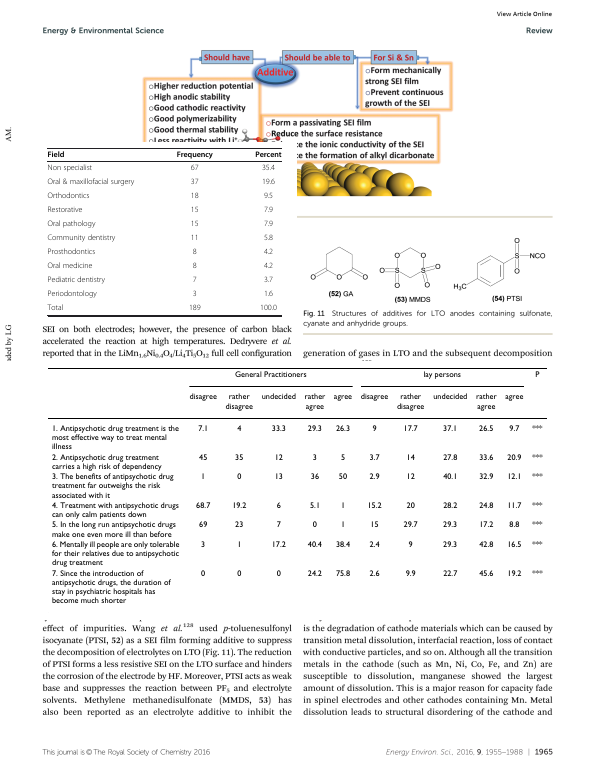borderless: (46, 366, 548, 614), (46, 147, 281, 315)
cell: (50, 569, 171, 606), (50, 540, 180, 568), (50, 424, 179, 452), (50, 472, 174, 501), (50, 520, 176, 540), (50, 501, 179, 520), (50, 453, 162, 472), (47, 178, 135, 188), (233, 370, 307, 380), (47, 234, 116, 244), (47, 276, 106, 286), (395, 393, 425, 412), (224, 393, 253, 412), (47, 290, 98, 300), (47, 220, 96, 230), (47, 248, 96, 258), (47, 164, 93, 174), (47, 262, 93, 272), (303, 393, 326, 412), (474, 393, 497, 412), (47, 192, 90, 202), (422, 370, 461, 380), (47, 206, 83, 216), (176, 151, 214, 160), (260, 393, 296, 402), (432, 393, 468, 402), (359, 393, 389, 402), (188, 393, 217, 402), (254, 151, 282, 160), (259, 304, 278, 314), (332, 393, 353, 402), (504, 393, 524, 402), (47, 304, 64, 314), (334, 540, 351, 550), (334, 569, 351, 579), (47, 151, 65, 160), (270, 424, 286, 434), (306, 424, 322, 434), (334, 424, 350, 434), (402, 424, 418, 434), (442, 424, 458, 434), (478, 424, 494, 434), (442, 453, 458, 463), (478, 453, 494, 463), (506, 453, 522, 463), (442, 472, 458, 482), (478, 472, 494, 482), (506, 472, 522, 482), (195, 501, 211, 511), (231, 501, 247, 511), (366, 501, 382, 511), (442, 501, 458, 511), (478, 501, 494, 511), (506, 501, 522, 511), (402, 520, 418, 530), (442, 520, 458, 530), (478, 520, 494, 530), (270, 540, 286, 550), (306, 540, 322, 550), (442, 540, 458, 550), (478, 540, 494, 550), (506, 540, 522, 550), (306, 569, 322, 579), (442, 569, 458, 579), (478, 569, 494, 579), (506, 569, 522, 579), (261, 164, 276, 174), (261, 178, 276, 188), (188, 304, 201, 314), (197, 424, 209, 434), (508, 424, 520, 434), (531, 424, 543, 434), (368, 453, 380, 463), (531, 453, 543, 463), (368, 472, 380, 482), (531, 472, 543, 482), (308, 501, 320, 511), (531, 501, 543, 511), (508, 520, 520, 530), (531, 520, 543, 530), (368, 540, 380, 550), (531, 540, 543, 550), (368, 569, 380, 579), (404, 569, 416, 579), (531, 569, 543, 579), (263, 192, 274, 202), (263, 206, 274, 216), (263, 220, 274, 230), (263, 234, 274, 244), (263, 248, 274, 258), (263, 262, 274, 272), (263, 276, 274, 286), (263, 290, 274, 300), (309, 472, 320, 482), (337, 472, 348, 482), (198, 453, 208, 463), (234, 453, 244, 463), (273, 453, 283, 463), (405, 453, 415, 463), (273, 472, 283, 482), (405, 472, 415, 482), (405, 501, 415, 511), (198, 520, 208, 530), (234, 520, 244, 530), (369, 520, 379, 530), (190, 164, 199, 174), (190, 178, 199, 188), (190, 192, 199, 202), (190, 206, 199, 216), (190, 220, 199, 230), (190, 234, 199, 244), (339, 453, 346, 463), (339, 501, 346, 511), (339, 520, 346, 530), (192, 248, 198, 258), (192, 262, 198, 272), (192, 276, 198, 286), (192, 290, 198, 300), (534, 370, 540, 380), (236, 424, 242, 434), (371, 424, 377, 434), (311, 453, 317, 463), (200, 472, 206, 482), (236, 472, 242, 482), (275, 501, 281, 511), (275, 520, 281, 530), (311, 520, 317, 530), (200, 540, 206, 550), (236, 540, 242, 550), (407, 540, 413, 550), (200, 569, 206, 579), (236, 569, 242, 579), (275, 569, 281, 579)
